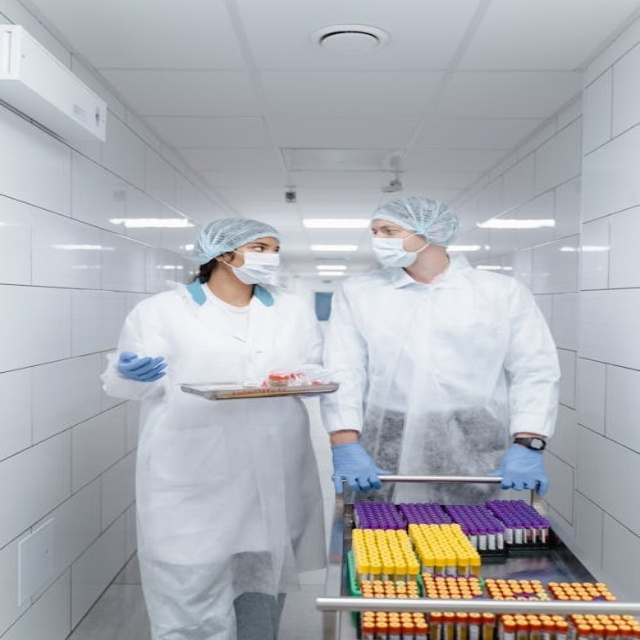Guantes: (488, 442, 548, 496), (331, 442, 384, 493), (117, 350, 168, 382)
Mascara: (221, 250, 281, 287), (370, 232, 428, 268)
Sin_gafas: (369, 227, 413, 238), (238, 245, 280, 255)
